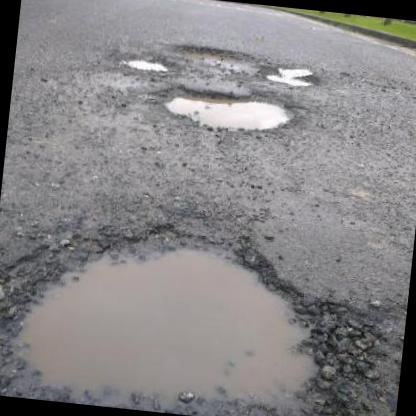pothole: (0, 200, 383, 416), (151, 81, 301, 136), (164, 41, 260, 67), (262, 59, 318, 88), (114, 50, 173, 74)
